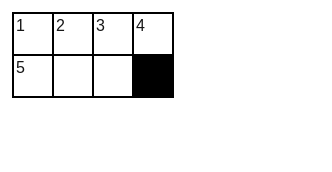
Test case: Text Edit Mode › Auto-advance › deletes the values from the end on typing to the last square and then backspacing
This screenshot has width=332, height=172.
Click the 5th field with test id "crossword-input": (34, 76) [14,56,54,96]
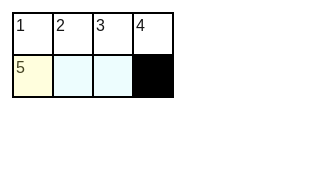
Type keys "a"
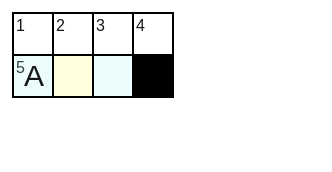
Type keys "b"
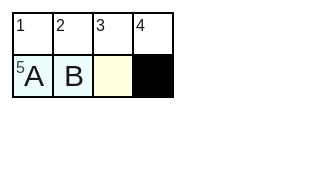
Type keys "c"
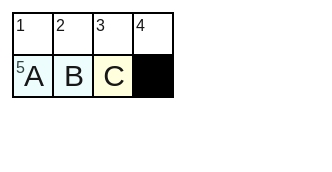
Type keys "[Backspace]"
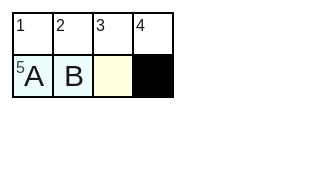
Type keys "[Backspace]"
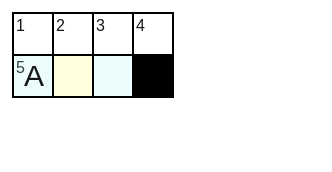
Check: the 5th field with test id "crossword-input" holds "A", box [14,56,54,96]
Check: the 7th field with test id "crossword-input" is empty, box [94,56,134,96]
Check: the 6th field with test id "crossword-input" is empty, box [54,56,94,96]
